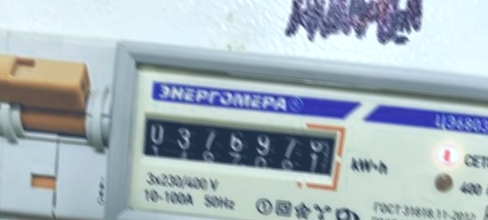0: (149, 123, 166, 146)
1: (308, 153, 319, 175)
3: (177, 128, 192, 150)
6: (229, 129, 246, 153)
7: (203, 128, 219, 152), (283, 135, 299, 159)
9: (256, 134, 272, 157)
screen: (130, 104, 350, 196)
